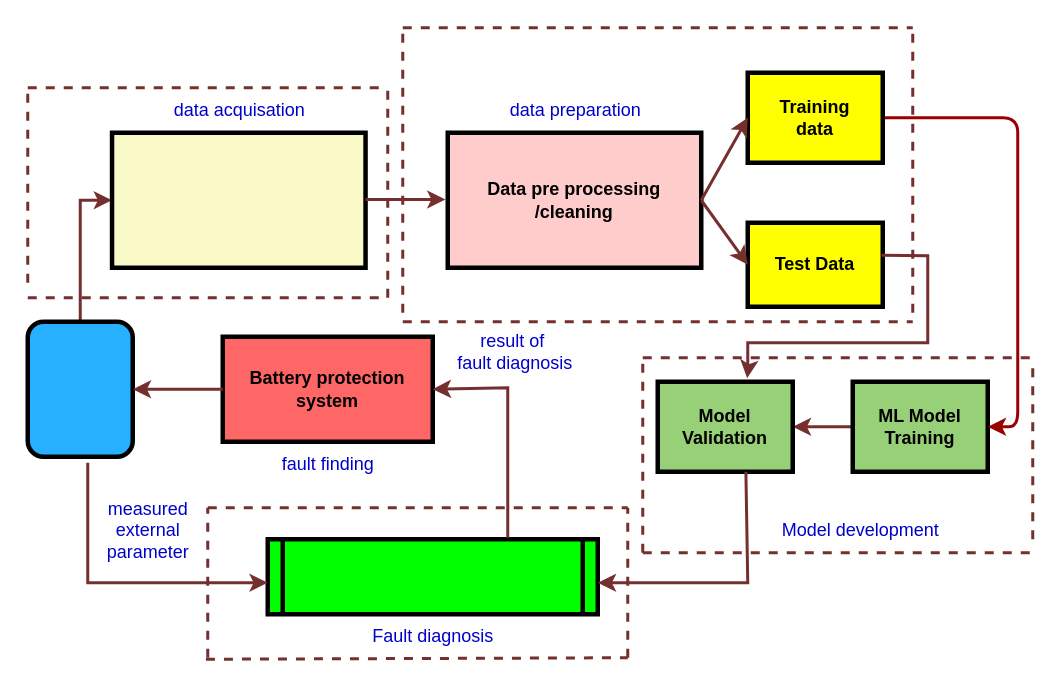
The diagram is 1062 pixels wide and 687 high, and some of its shapes have lost their labels. The shapes that lost their labels are listed below. From the top down, each one's centre as x and y in pixels, then its label:
the point at 238,199: Battery current, voltage,SOC, temperature,fault data
the point at 79,388: LIB Pack
the point at 432,576: ML BASED FAULT DIAGNOSIS MODEL
